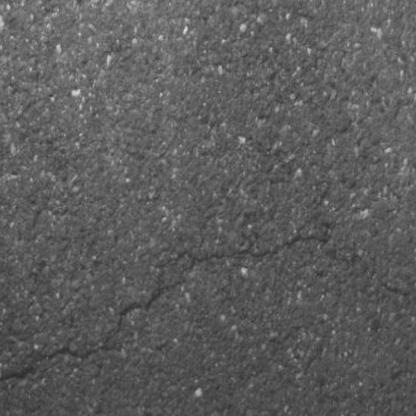Cracks: (0, 227, 330, 394), (373, 277, 416, 308)
